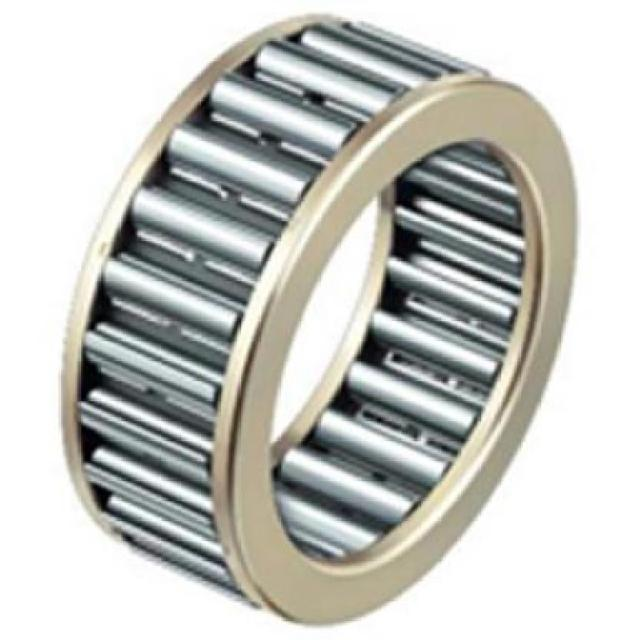Bearing: (56, 14, 579, 628)
